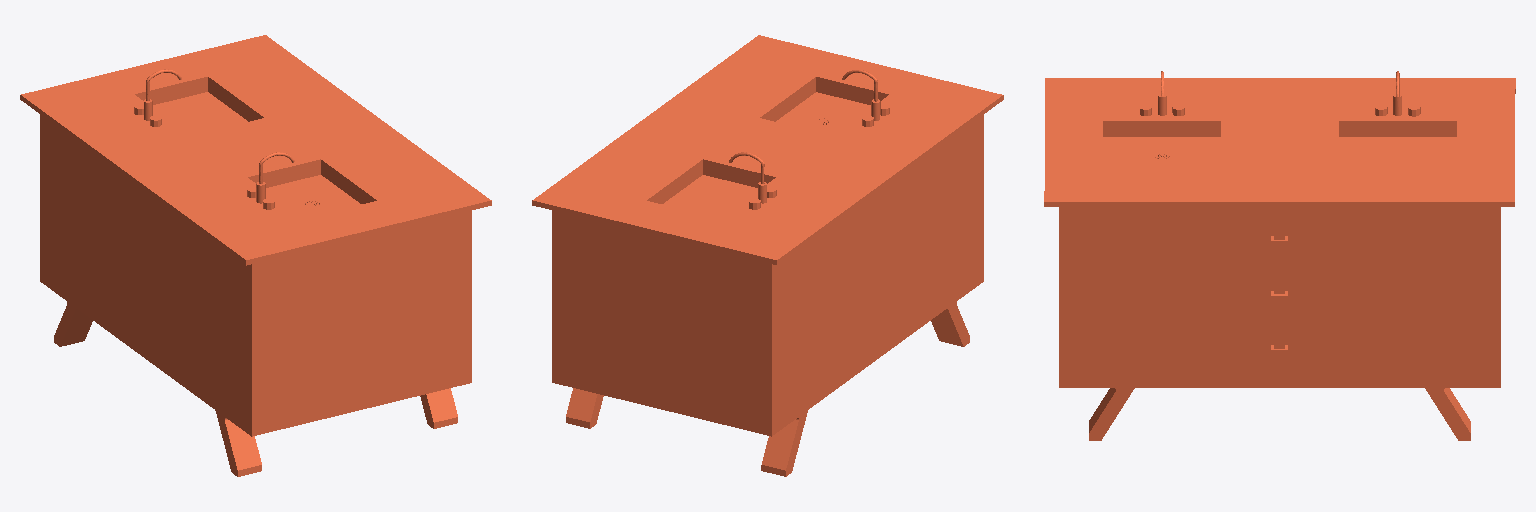
URDF robot description (kitchen_sink):
<?xml version="1.0"?>
<robot name="kitchen_sink">
<link name="kitchen_sink_base_link">
  <inertial>
    <mass value="0.0"/>
    <origin xyz="0 0 0" rpy="1.57 0 1.57"/>
    <inertia ixx="0.01" ixy="0" ixz="0" iyy="0.01" iyz="0" izz="0.01"/>
  </inertial>

  <visual>
    <origin xyz="0 0 0" rpy="1.57 0 1.57"/>
    <geometry>
      <mesh filename="package://meshes/kitchen_sink.dae" scale="0.85 0.85 0.85"/>
    </geometry>
    <material name="material_name">
      <color rgba="1 0.514 0.35 1.0"/>
    </material>
  </visual>

  <collision>
    <origin xyz="0 0 0" rpy="1.57 0 1.57"/>
    <geometry>
      <mesh filename="package://meshes/kitchen_sink.dae" scale="0.85 0.85 0.85"/> 
      
      </geometry>
  </collision>
</link>
</robot>

--- What the picture shows (computed from the rendered views, not written in the file) ---
Views: 3 orthographic renders of the robot side by side, from view 1: azimuth 30°, elevation 25°; view 2: azimuth 150°, elevation 25°; view 3: azimuth 270°, elevation 25°.
Robot: kitchen_sink — 1 links, 0 joints (none); root link kitchen_sink_base_link; default pose: all joints at 0.
Visible links, largest first — view 1: kitchen_sink_base_link; view 2: kitchen_sink_base_link; view 3: kitchen_sink_base_link.
Boxes of the visible links, x1,y1,x2,y2 form: kitchen_sink_base_link: [20, 35, 491, 476]; kitchen_sink_base_link: [532, 35, 1003, 476]; kitchen_sink_base_link: [1044, 71, 1515, 440].
Bounding box of the posed robot: 1.08 × 1.73 × 1.18 m (x, y, z).
1 mesh visuals loaded from 1 distinct referenced files (1 Collada DAE).
